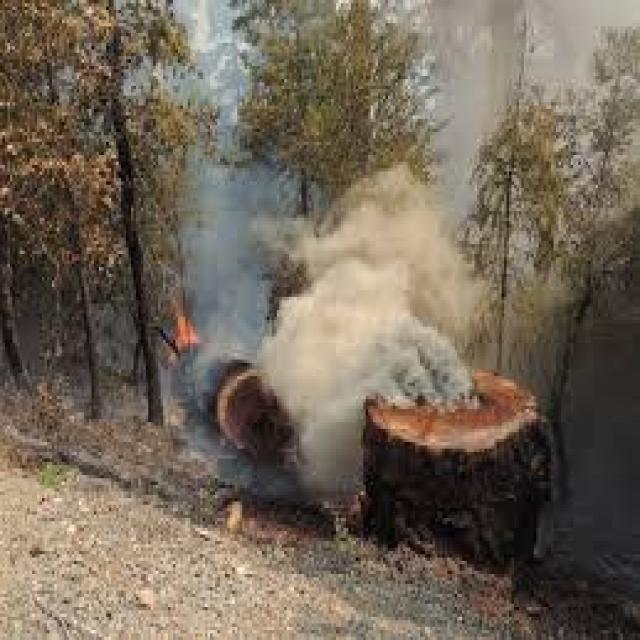Fire: (160, 300, 221, 373)
Smoke: (260, 160, 500, 404), (250, 188, 362, 516), (450, 1, 583, 92), (207, 187, 249, 286)
